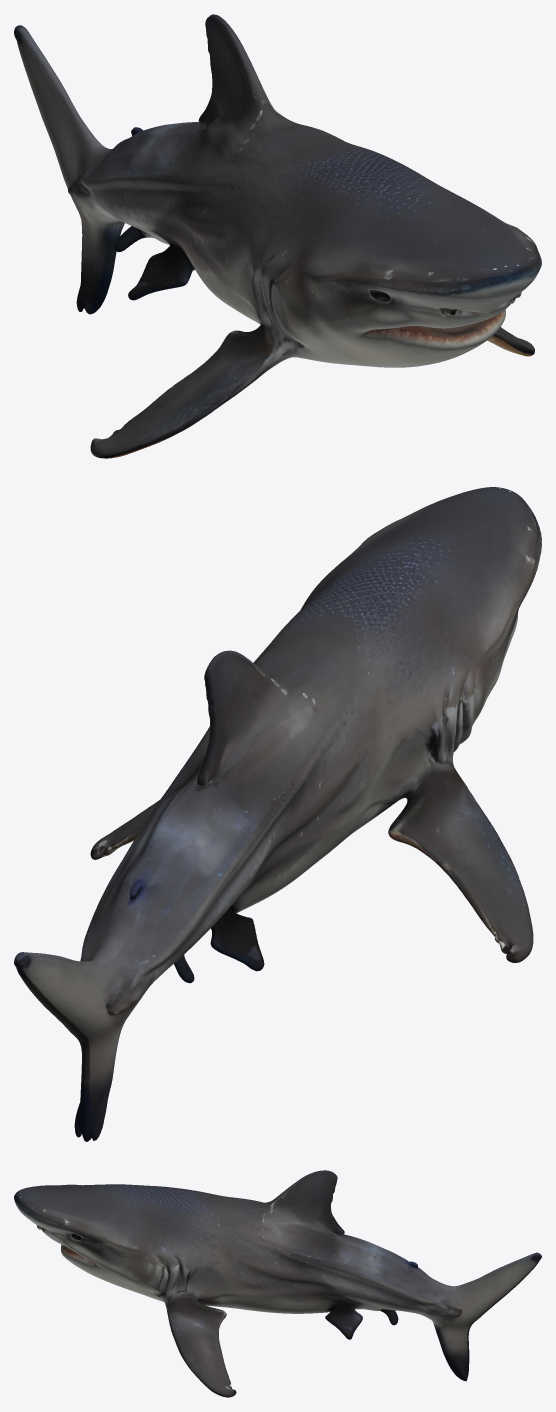
The model's file is real_hammer_c.glb.
3 views of the same model, one above another, from view 1: azimuth 30°, elevation 25°; view 2: azimuth 150°, elevation 25°; view 3: azimuth 270°, elevation 25° (orthographic). The views are drawn at different scales.
Visible parts, largest first — view 1: tripo_node_fb9db365-80e8-4827-9c12-695b8e1b6ebb; view 2: tripo_node_fb9db365-80e8-4827-9c12-695b8e1b6ebb; view 3: tripo_node_fb9db365-80e8-4827-9c12-695b8e1b6ebb.
Part boxes in pixels (x1,y1,x2,y2): tripo_node_fb9db365-80e8-4827-9c12-695b8e1b6ebb: (14,14,541,458); tripo_node_fb9db365-80e8-4827-9c12-695b8e1b6ebb: (14,487,541,1141); tripo_node_fb9db365-80e8-4827-9c12-695b8e1b6ebb: (14,1170,541,1397).
Size of the model in its own units: 0.5097 by 0.4391 by 1.
1 material, 1 textured.
